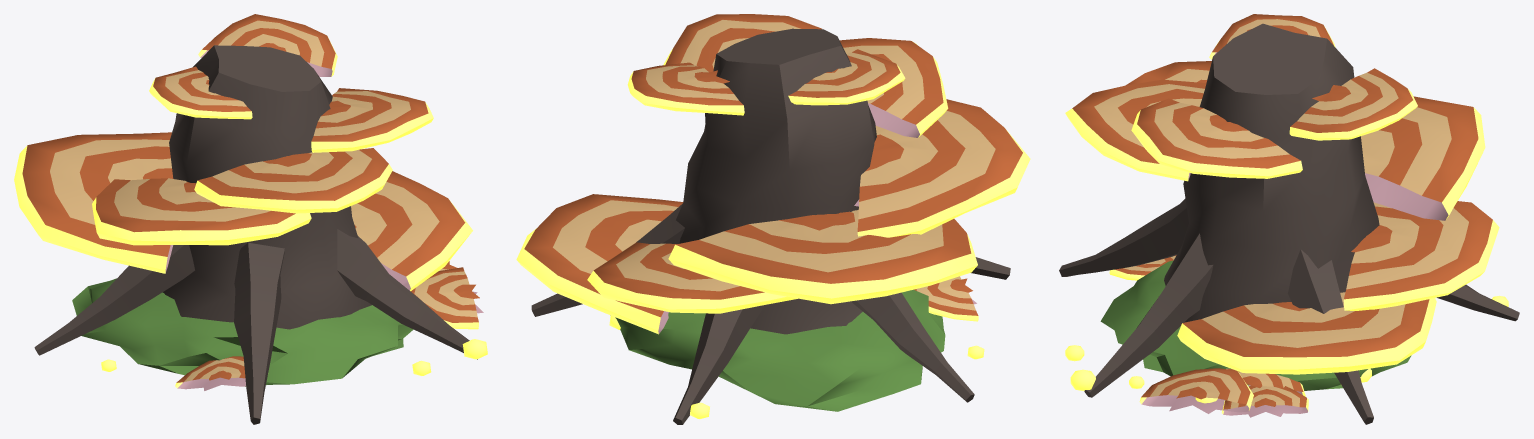
The model's file is fungus_cap_a.glb.
3 renders of one model, left to right at view 1: azimuth 30°, elevation 25°; view 2: azimuth 150°, elevation 25°; view 3: azimuth 270°, elevation 25°, orthographic. The views are drawn at different scales.
Visible parts, largest first — view 1: fungus_cap_a; view 2: fungus_cap_a; view 3: fungus_cap_a.
Part boxes in pixels (x1,y1,x2,y2): fungus_cap_a: (14,14,487,424); fungus_cap_a: (516,14,1030,424); fungus_cap_a: (1059,14,1519,424).
Bounding box in the file's own units: 2.5 × 1.62 × 2.35.
